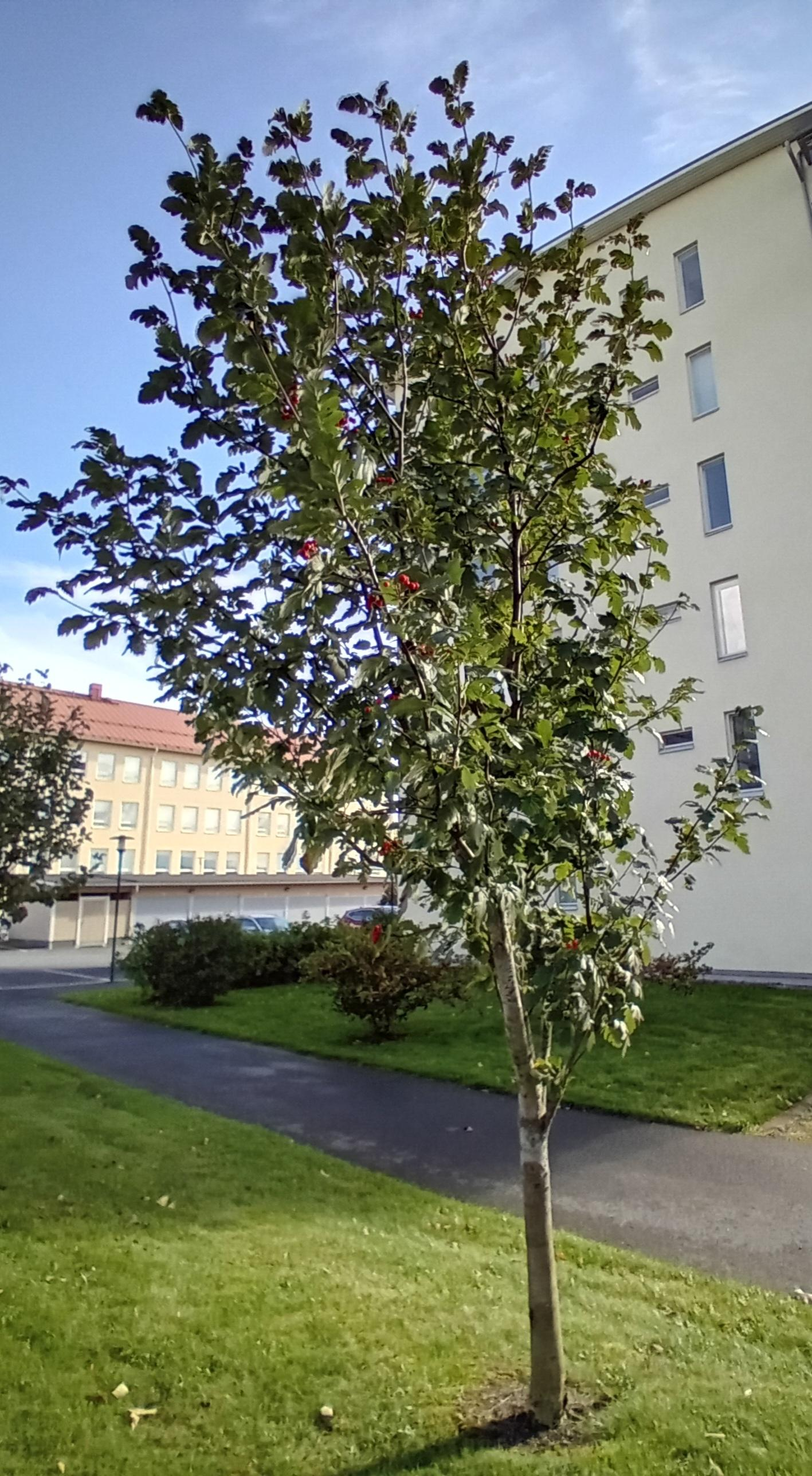Rowan: (2, 56, 775, 1433)
